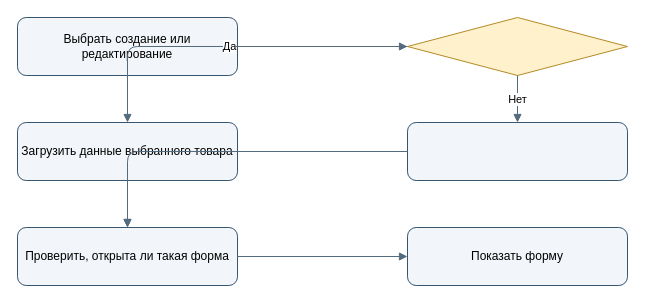
Some shapes in this 645 by 303 pixel diagram are drawn without their labels. Here are the shapes that lost their labels. From the top down, the centre of each, then its label:
At (517,46): "Окно редактирования?".
At (517,151): "Создать пустую форму".
